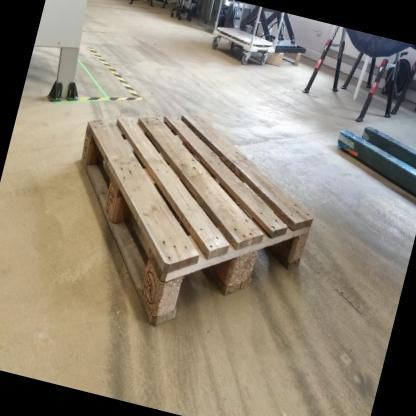BoxFace: (78, 108, 318, 339)
